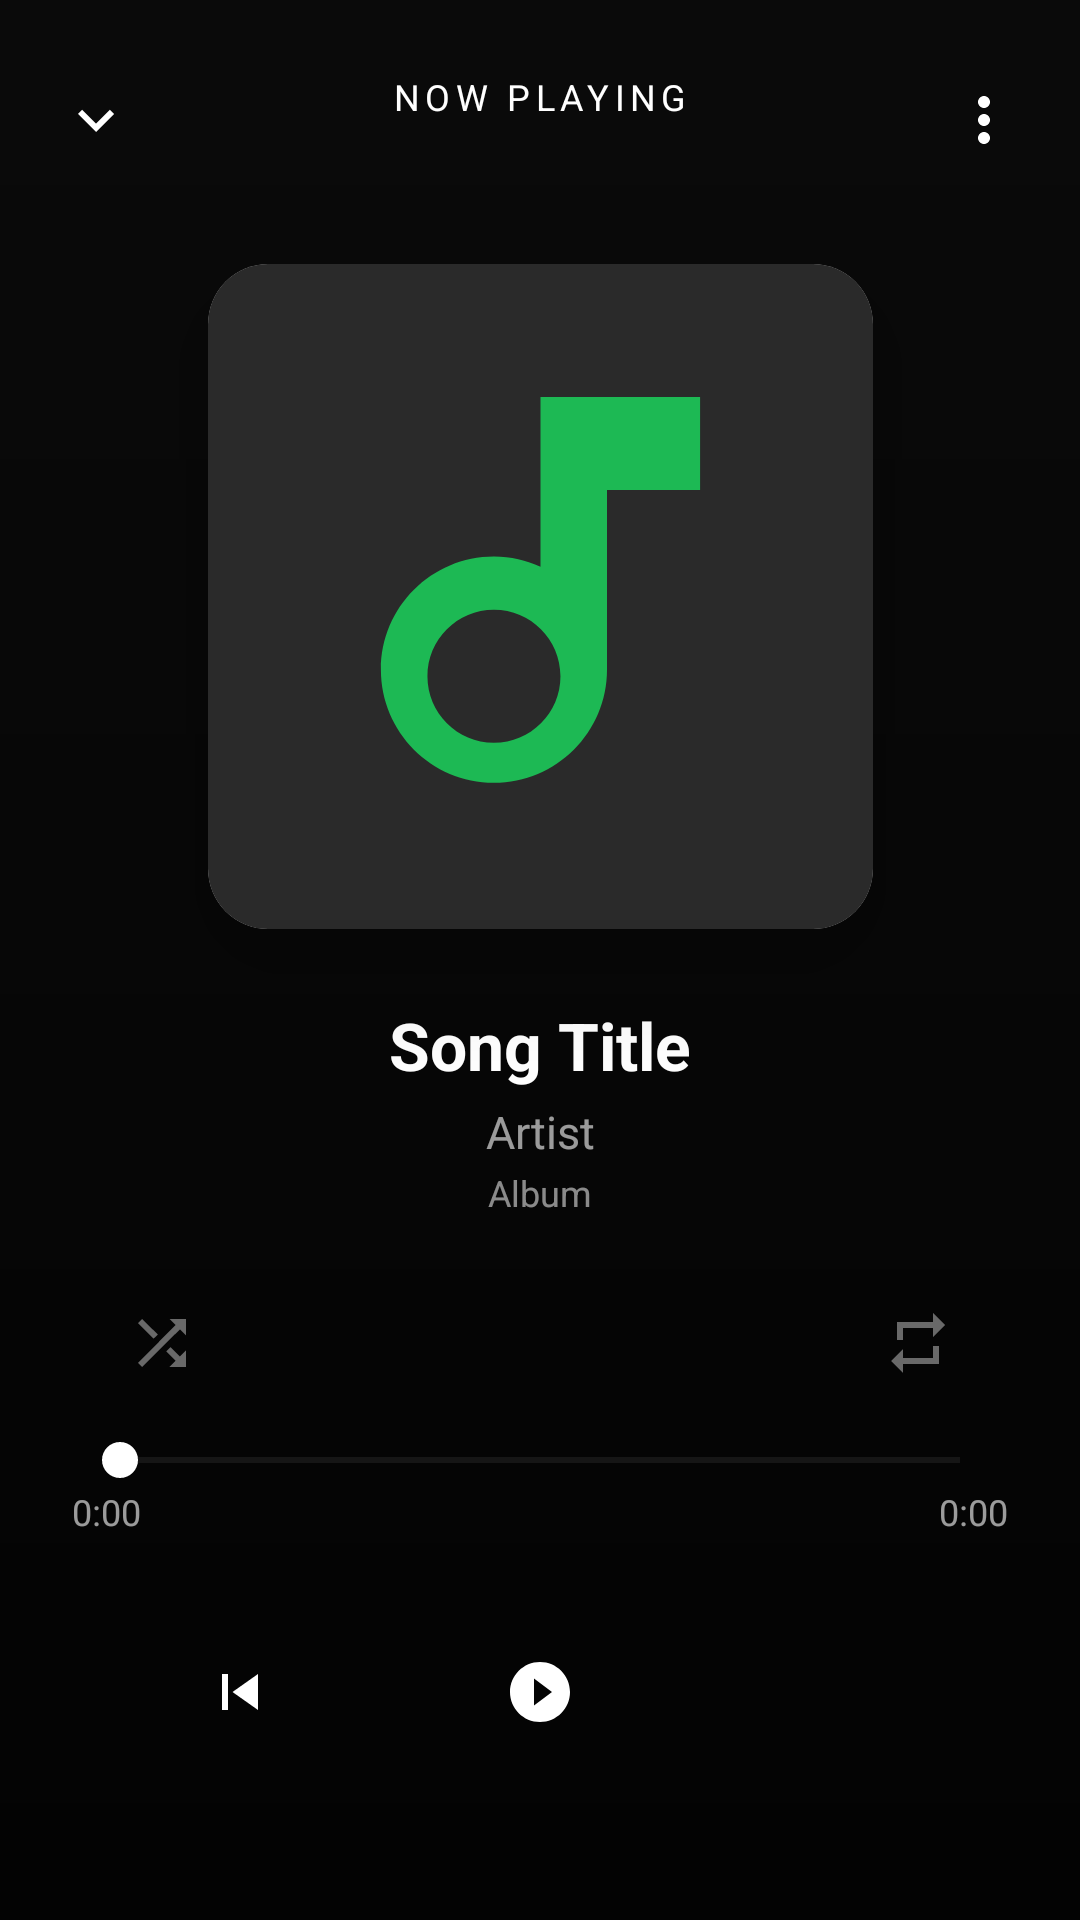

Where to tap for icons on this 1080 × 1920 app screen, as (x=x, y=y):
arrow down: (x=96, y=121)
more vert: (x=984, y=120)
play circle: (x=540, y=1692)
repeat: (x=918, y=1343)
shuffle: (x=162, y=1343)
skip previous: (x=240, y=1692)
